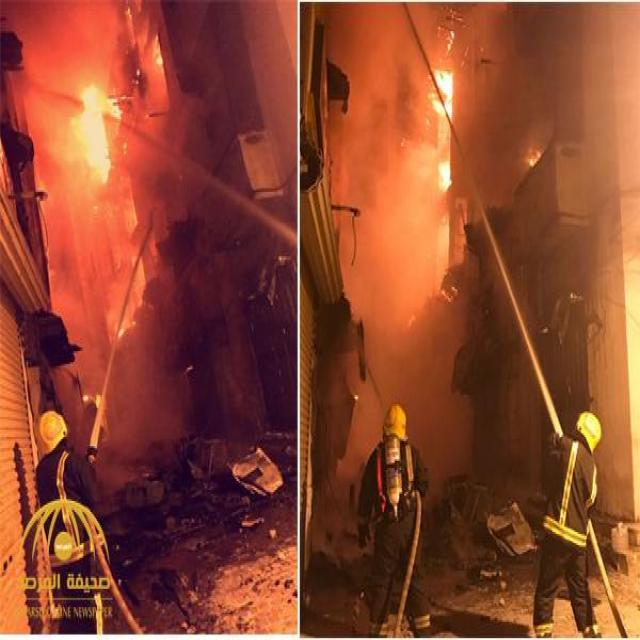Fire: (410, 55, 468, 220), (72, 80, 122, 192), (521, 122, 548, 176)
Smoke: (336, 250, 464, 446), (314, 2, 403, 230), (562, 7, 620, 248)
